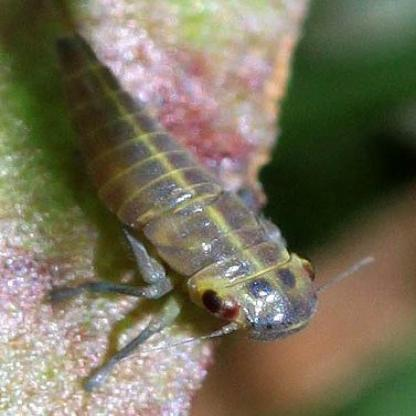Green-Leafhopper: (43, 30, 349, 389)
